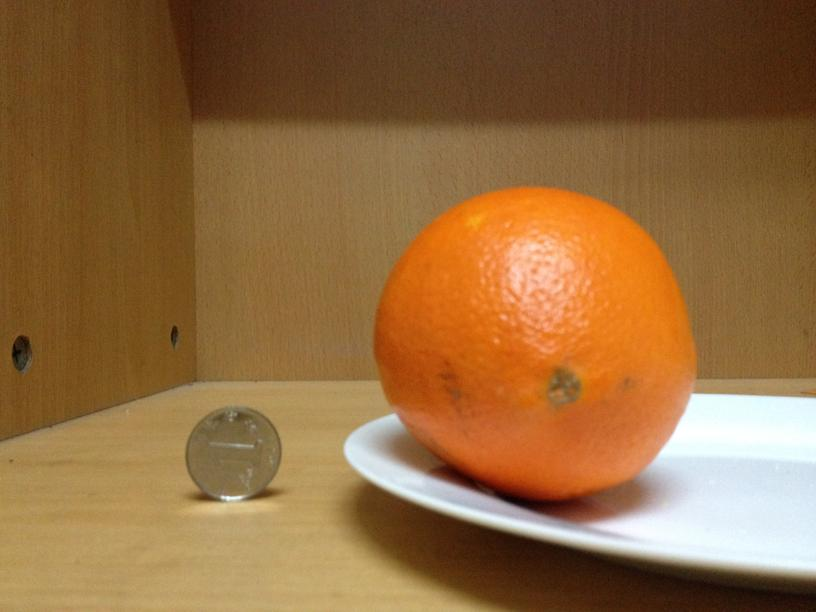coin: (178, 406, 281, 500)
orange: (378, 186, 694, 502)
